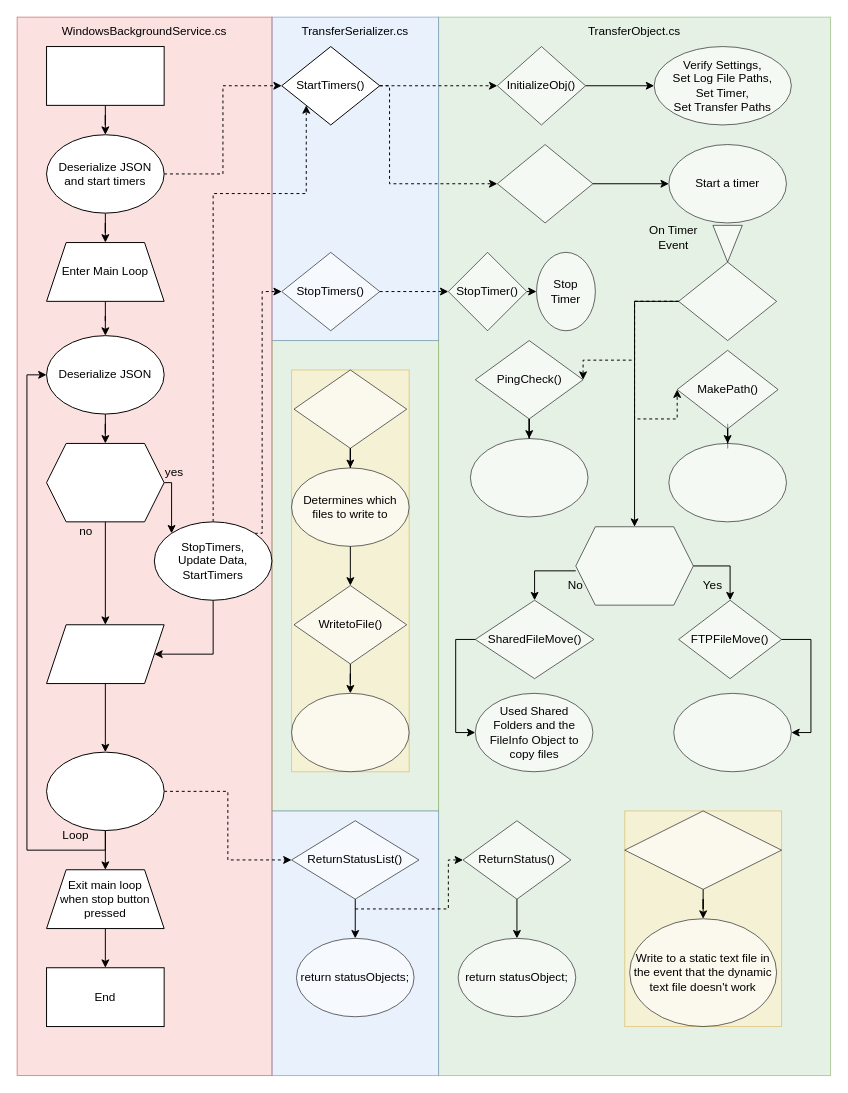
The diagram is 848 pixels wide and 1093 high, and some of its shapes have lost their labels. Here are the shapes that lost their labels. From the top down, the box of each, then its label:
(46, 46, 164, 105): Service Start
(496, 144, 593, 223): StartTimer()
(678, 261, 777, 341): TransferFiles()
(293, 369, 407, 448): LogMessage()
(46, 442, 164, 522): Is UpdateService set to true?
(469, 438, 588, 517): Ping Check source and destination machines
(668, 442, 786, 522): Parse date settings from the JSON and apply them
(575, 526, 693, 605): Is it an FTP copy?
(46, 624, 164, 684): Wait 6 minutes
(291, 692, 409, 772): Write to a date specific text file
(673, 692, 791, 772): Use FluentFTP to copy files from an FTP server
(46, 751, 164, 831): Get Statuses and Serialize Them
(624, 810, 782, 889): RecordUnhandledError()
